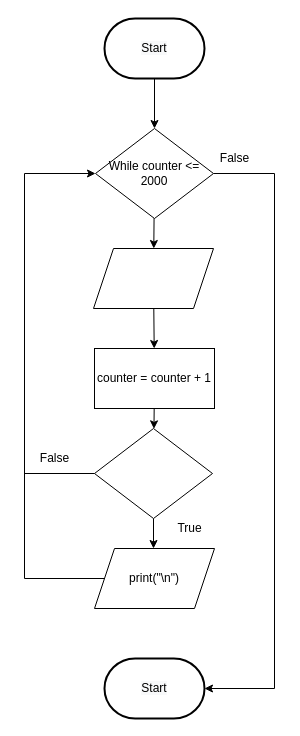
Image size: 300x736. Some labels were removed from this diagram. The shapes that lost their labels are listed below. From the top down, each one's centre as x and y in pixels, then its label:
(153,278): print(counter "" end="")
(153,473): if counter %5 == 0:
